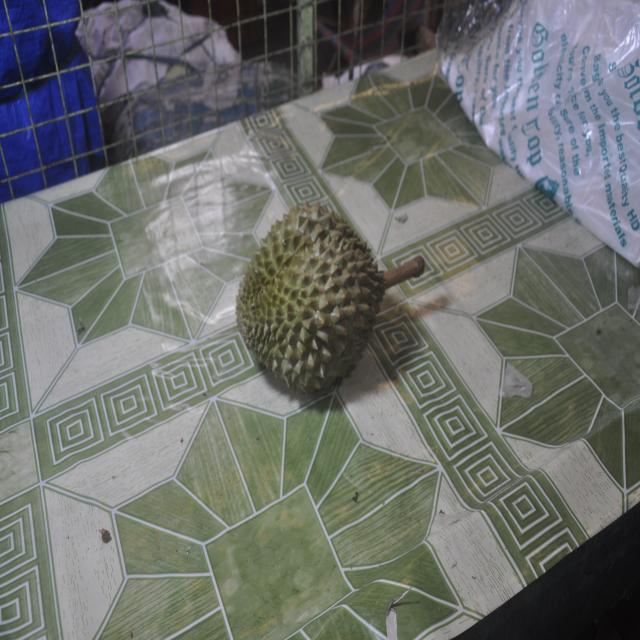mature: (236, 204, 425, 392)
